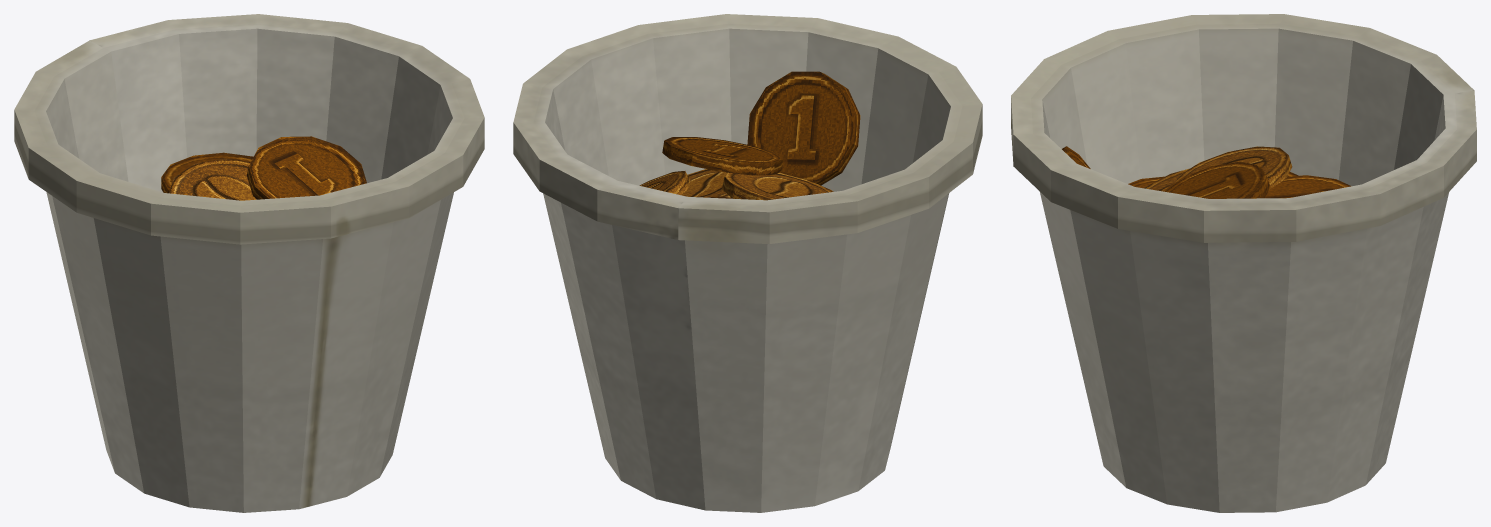
File: moneycup.fbx
The picture shows the model from 3 angles, left to right: view 1: azimuth 30°, elevation 25°; view 2: azimuth 150°, elevation 25°; view 3: azimuth 270°, elevation 25°; orthographic projection.
Visible parts, largest first — view 1: MoneyCup; view 2: MoneyCup; view 3: MoneyCup.
Part boxes in pixels (<box>): MoneyCup: <box>14,14,484,512</box>; MoneyCup: <box>513,14,982,512</box>; MoneyCup: <box>1011,14,1476,512</box>.
Size of the model in its own units: 21.45 by 17.3 by 21.45.
